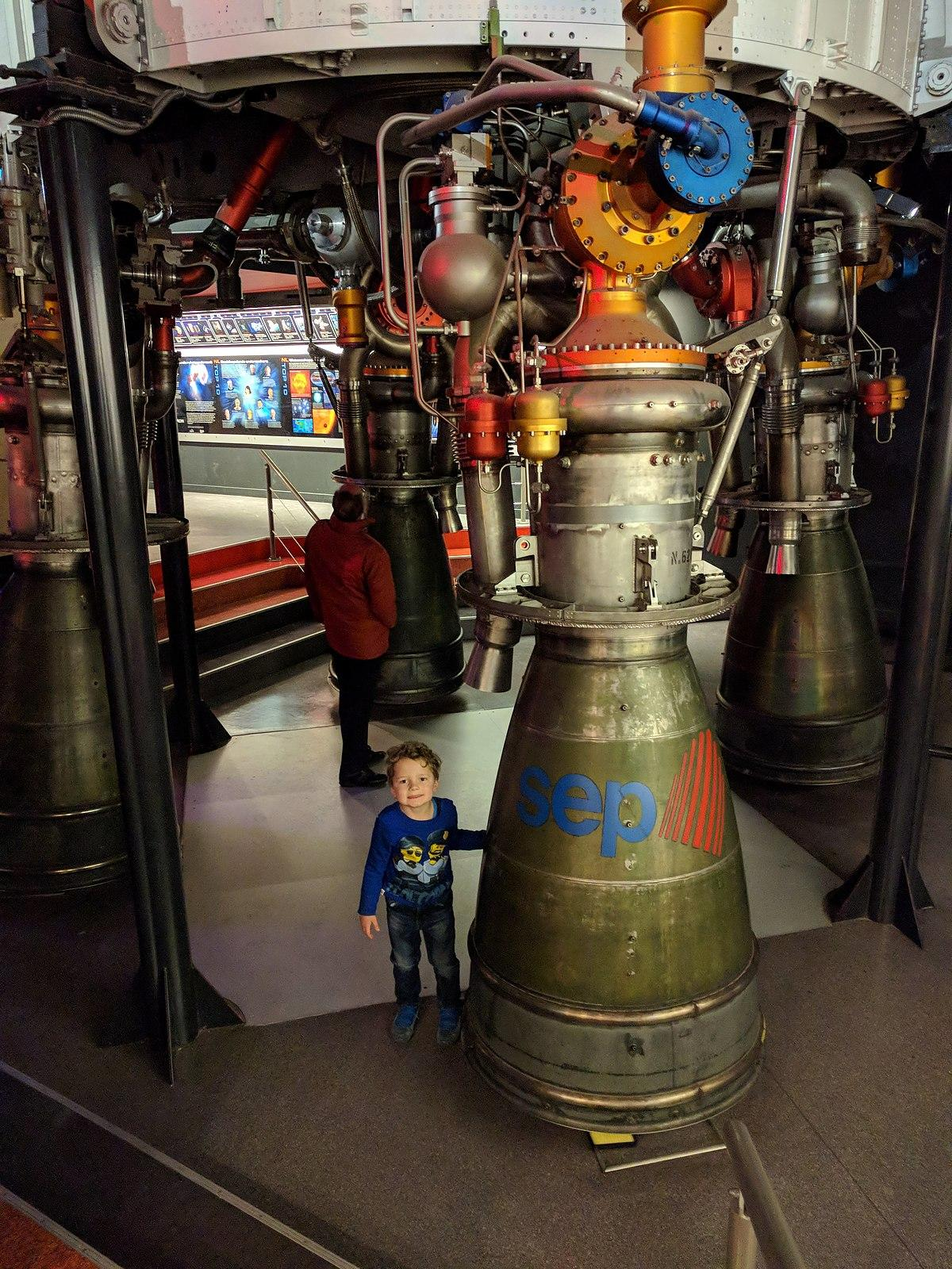thruster: (459, 650, 772, 1145), (712, 527, 900, 794), (324, 499, 470, 717)
